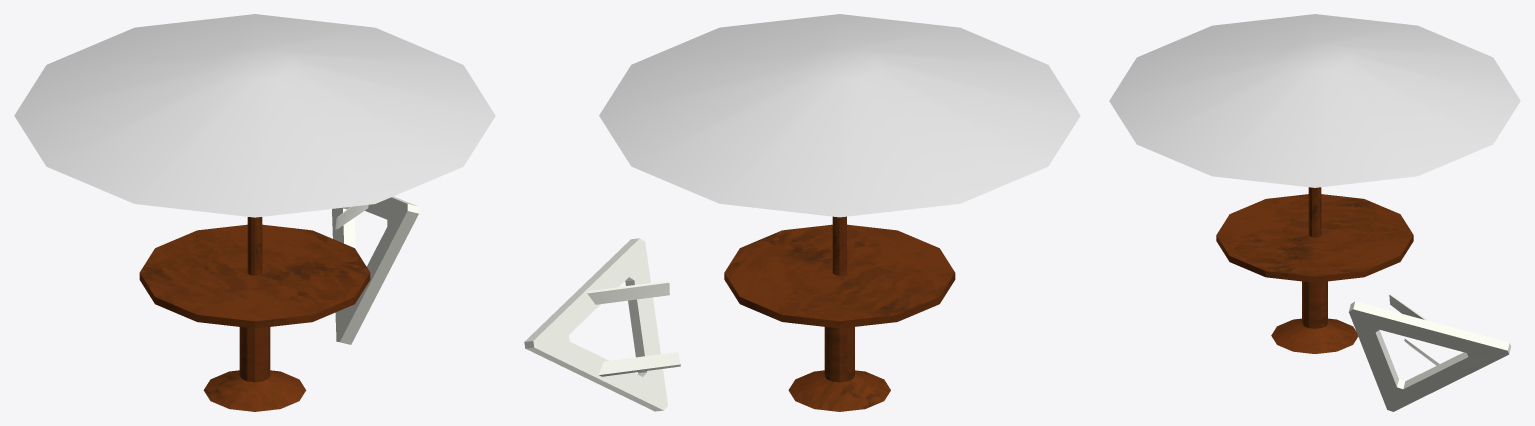
The model's file is Parasol&Triangle.fbx.
3 views of the same model, side by side, from view 1: azimuth 30°, elevation 25°; view 2: azimuth 150°, elevation 25°; view 3: azimuth 270°, elevation 25° (orthographic). The views are drawn at different scales.
Parts seen in each view (by area): view 1: MSH_table_parasol_01__1_, MSH_triangle_signalisation_escalator_01__1_; view 2: MSH_table_parasol_01__1_, MSH_triangle_signalisation_escalator_01__1_; view 3: MSH_table_parasol_01__1_, MSH_triangle_signalisation_escalator_01__1_.
Boxes of the visible parts, x1,y1,x2,y2 form: MSH_table_parasol_01__1_: [14, 14, 495, 411]; MSH_triangle_signalisation_escalator_01__1_: [332, 196, 418, 344]; MSH_table_parasol_01__1_: [599, 14, 1080, 411]; MSH_triangle_signalisation_escalator_01__1_: [524, 238, 680, 411]; MSH_table_parasol_01__1_: [1109, 14, 1520, 353]; MSH_triangle_signalisation_escalator_01__1_: [1349, 294, 1511, 411].
Size of the model in its own units: 533 by 424 by 533.
